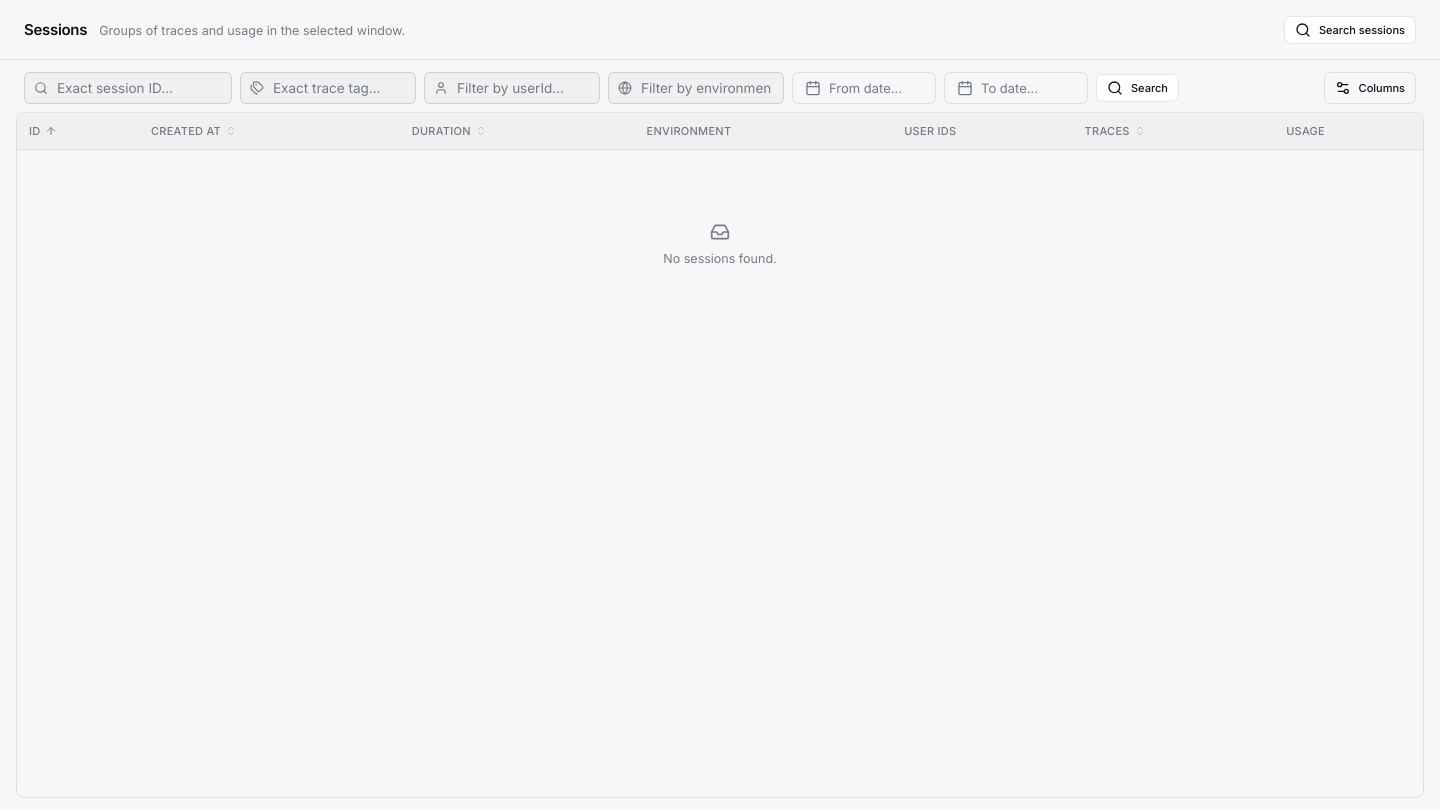
Test: remaining page server filters › submits session ID, a single literal tag and all drafts atomically; resets paging
Type " session-1 " into the field with placeholder "Exact session ID…" at {"x": 128, "y": 88}, box [24, 72, 232, 104]
Type "team,blue" into the field with placeholder "Exact trace tag…" at {"x": 328, "y": 88}, box [240, 72, 416, 104]
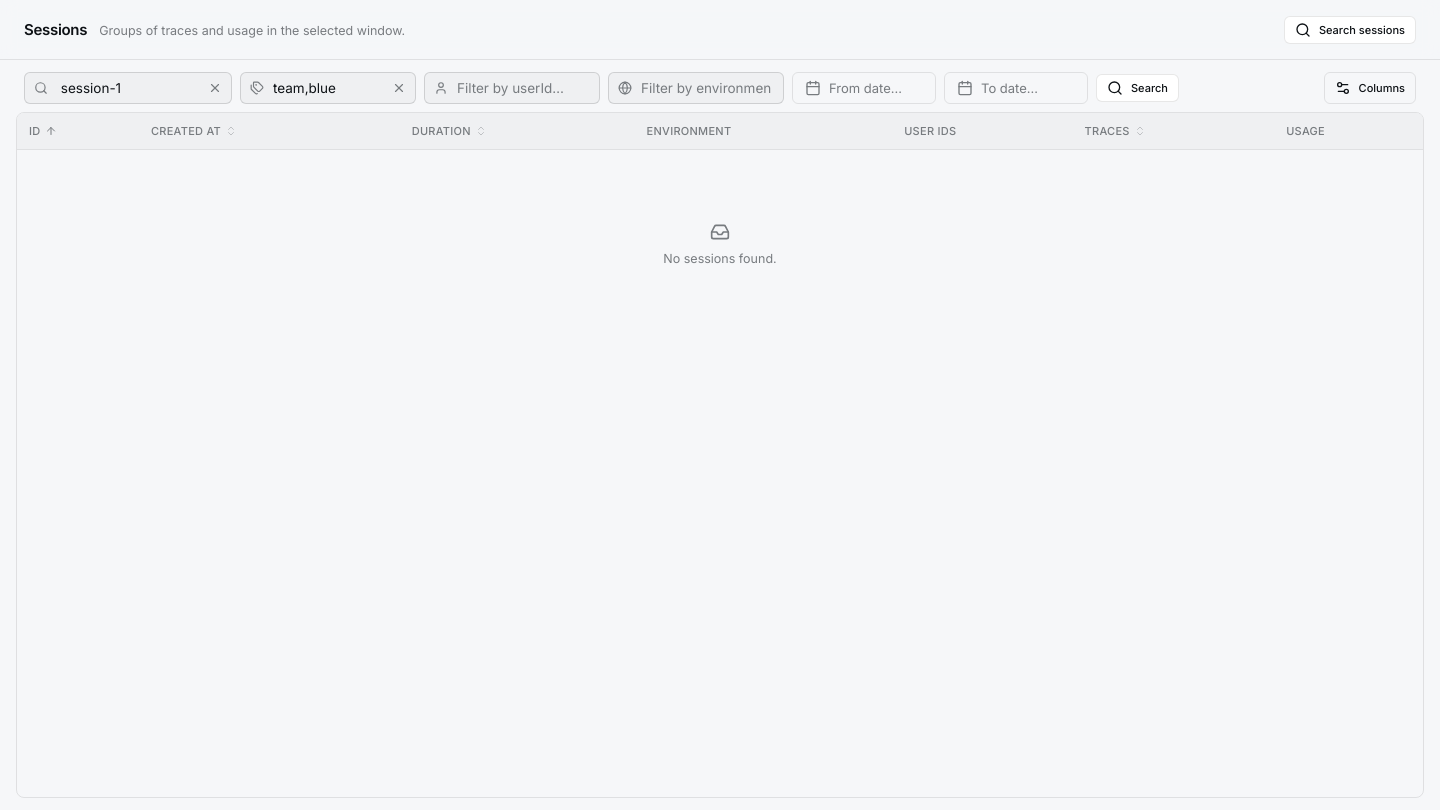
Type "user-1" into the field with placeholder "Filter by userId…" at {"x": 512, "y": 88}, box [424, 72, 600, 104]
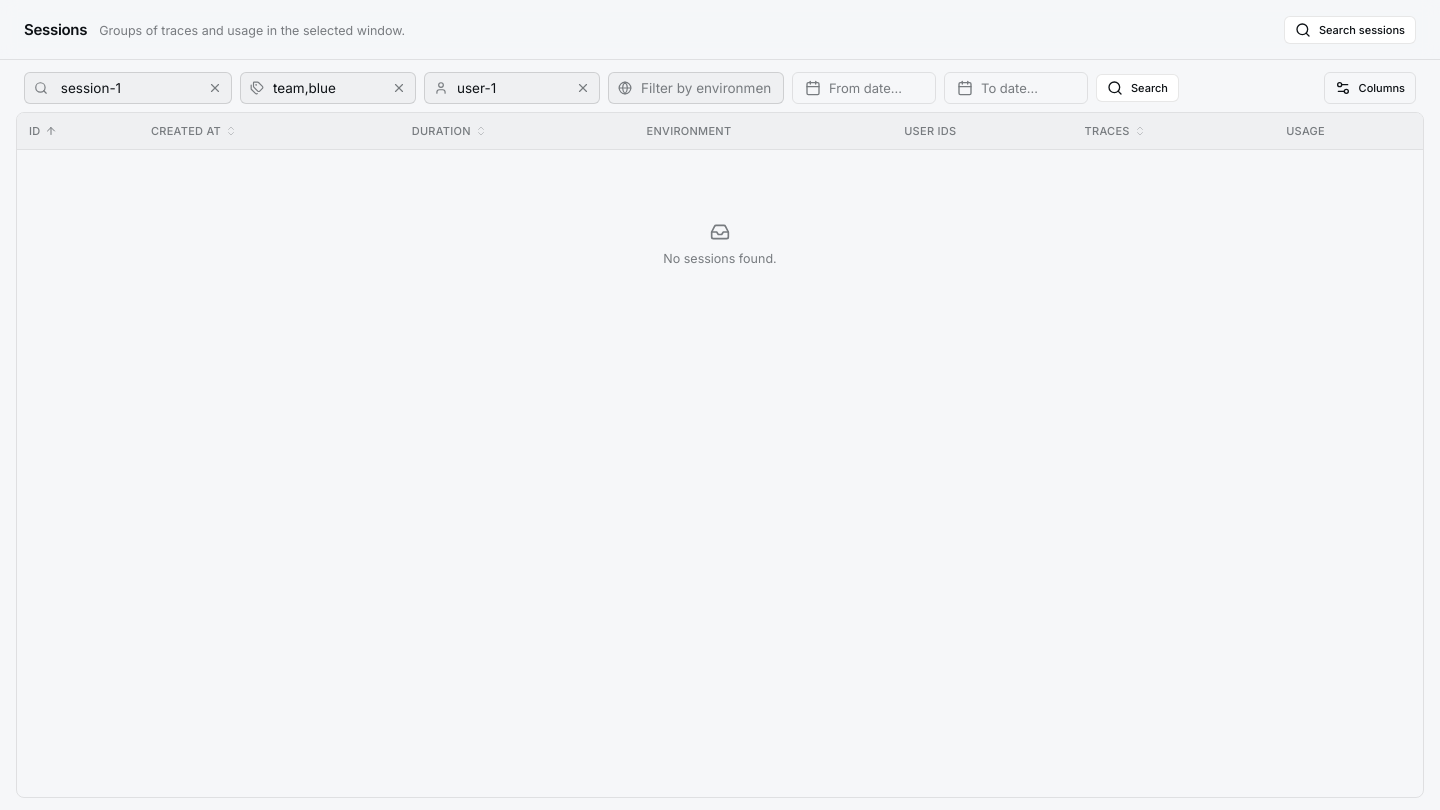
Type "prod" into the field with placeholder "Filter by environment…" at {"x": 696, "y": 88}, box [608, 72, 784, 104]
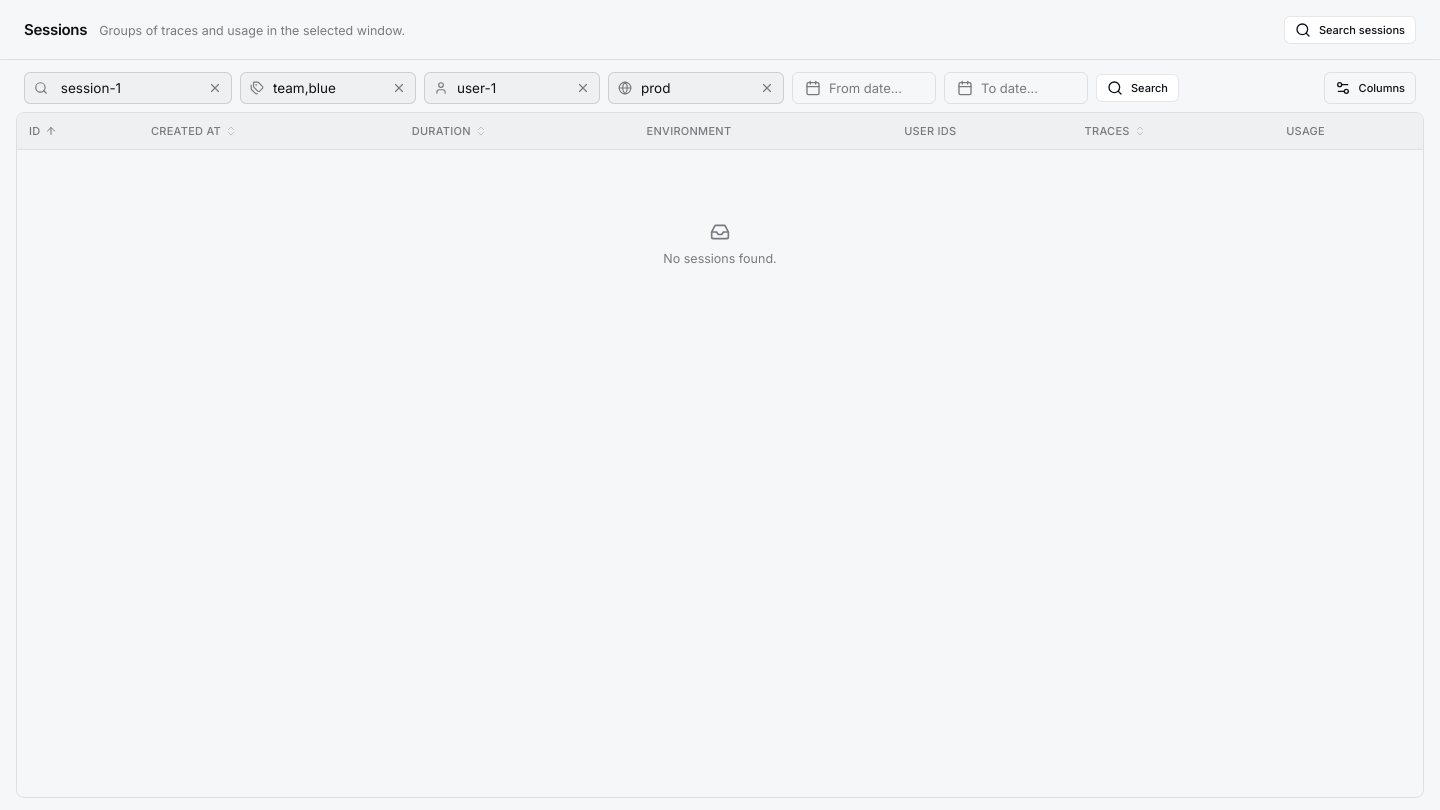
Click the button "Search" at {"x": 1137, "y": 88}, box [1096, 74, 1179, 102]
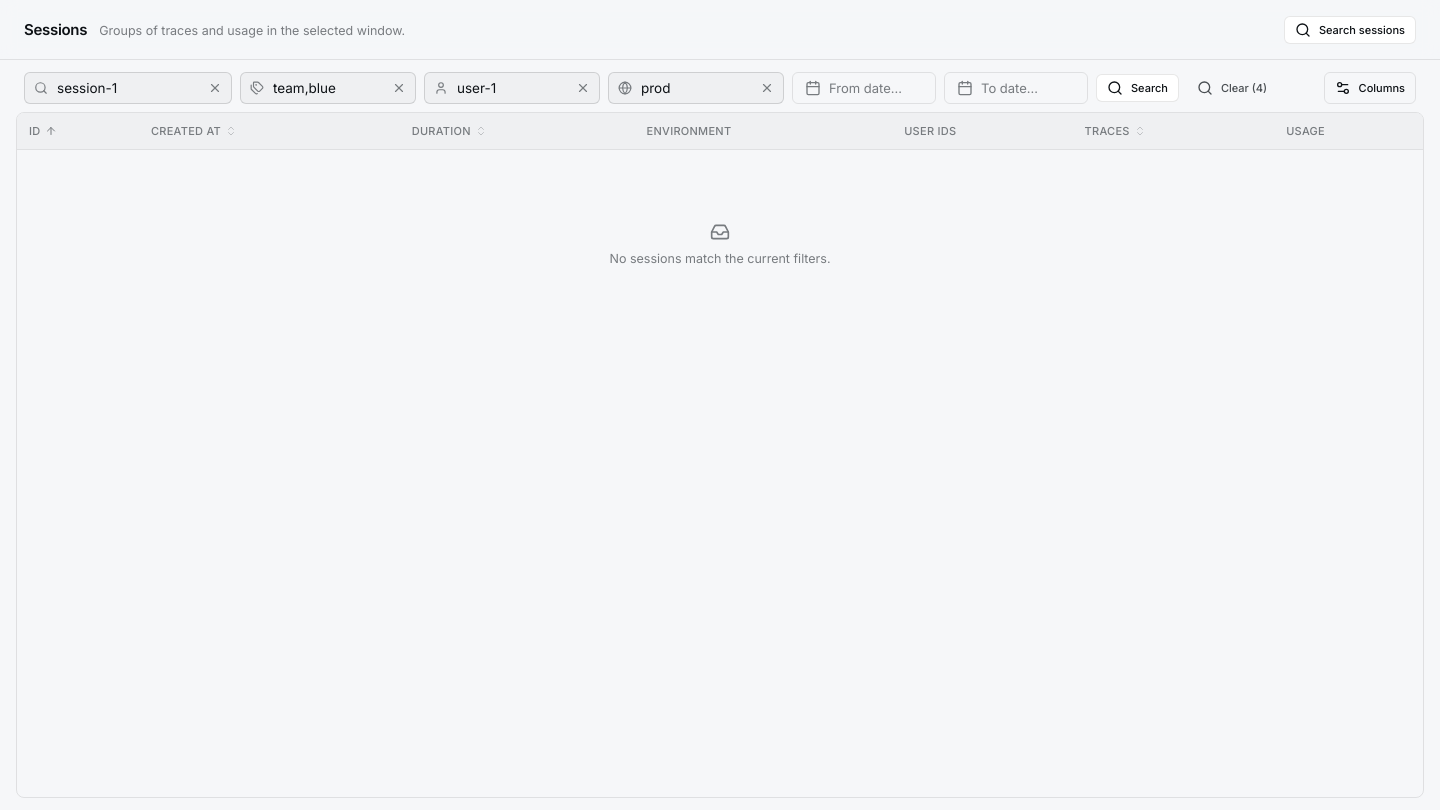
Replace the text in the field with placeholder "Exact trace tag…" with "unsubmitted" at {"x": 328, "y": 88}, box [240, 72, 416, 104]
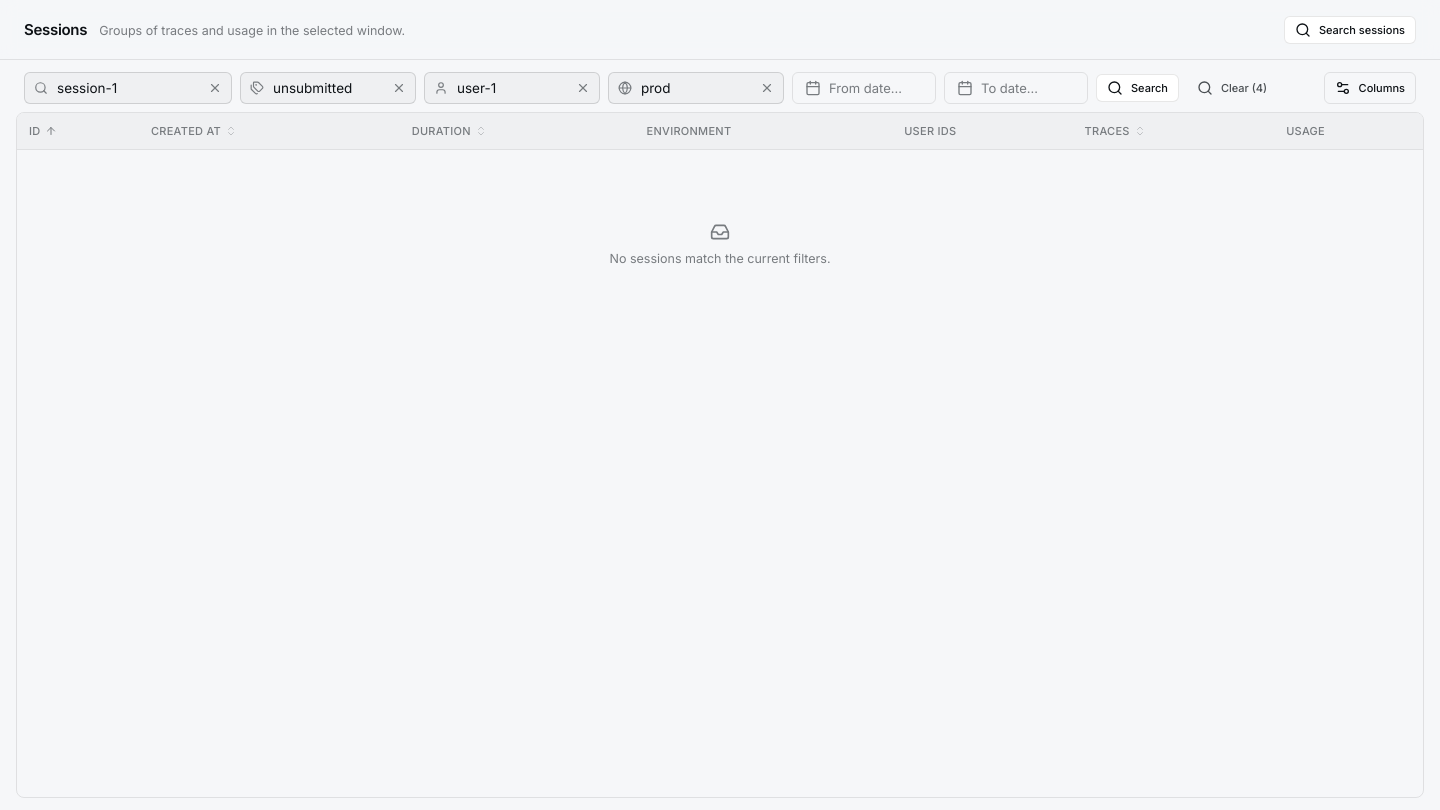
Click the button "Clear (4)" at {"x": 1232, "y": 88}, box [1187, 74, 1277, 102]
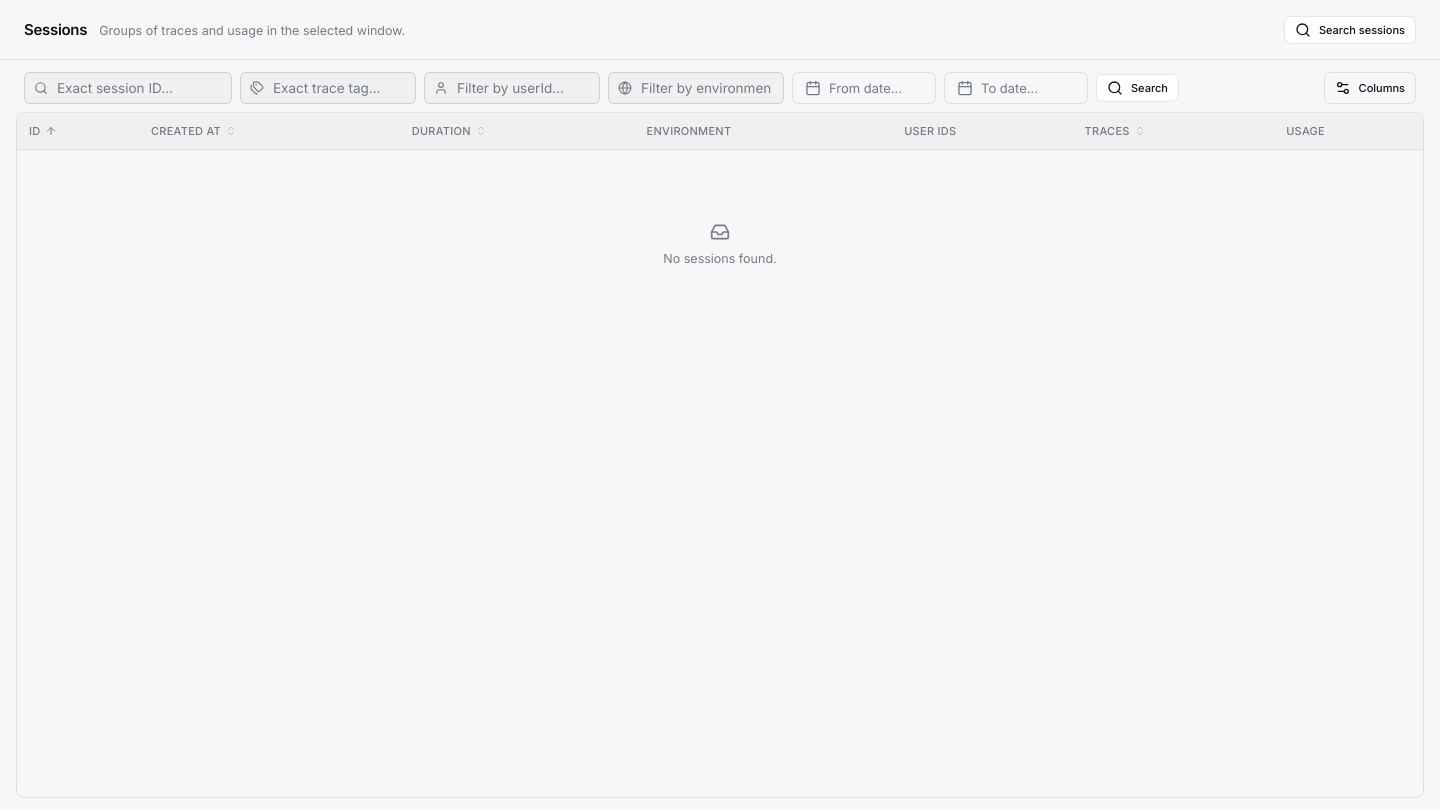
Check: the field with placeholder "Exact session ID…" is empty, box [24, 72, 232, 104]
Check: the field with placeholder "Exact trace tag…" is empty, box [240, 72, 416, 104]
Check: the field with placeholder "Filter by userId…" is empty, box [424, 72, 600, 104]
